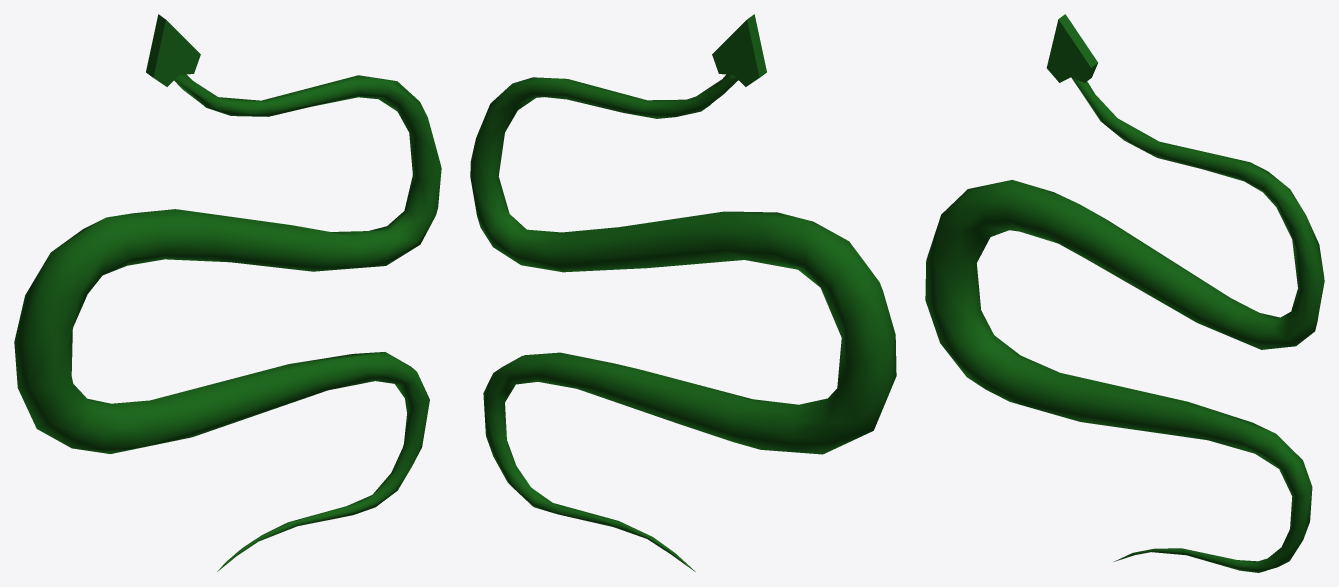
File: serpent.obj
3 renders of one model, left to right at view 1: azimuth 30°, elevation 25°; view 2: azimuth 150°, elevation 25°; view 3: azimuth 330°, elevation 25°, orthographic. The views are drawn at different scales.
Visible parts, largest first — view 1: object_1.009, object_2.006; view 2: object_1.009, object_2.006; view 3: object_1.009, object_2.006.
Boxes of the visible parts, bbox=[...] form: object_1.009: bbox=[14, 74, 441, 571]; object_2.006: bbox=[146, 14, 200, 86]; object_1.009: bbox=[470, 74, 896, 571]; object_2.006: bbox=[712, 14, 766, 86]; object_1.009: bbox=[925, 77, 1324, 572]; object_2.006: bbox=[1046, 14, 1097, 82].
Size of the model in its own units: 4.43 by 5.72 by 0.5146.
